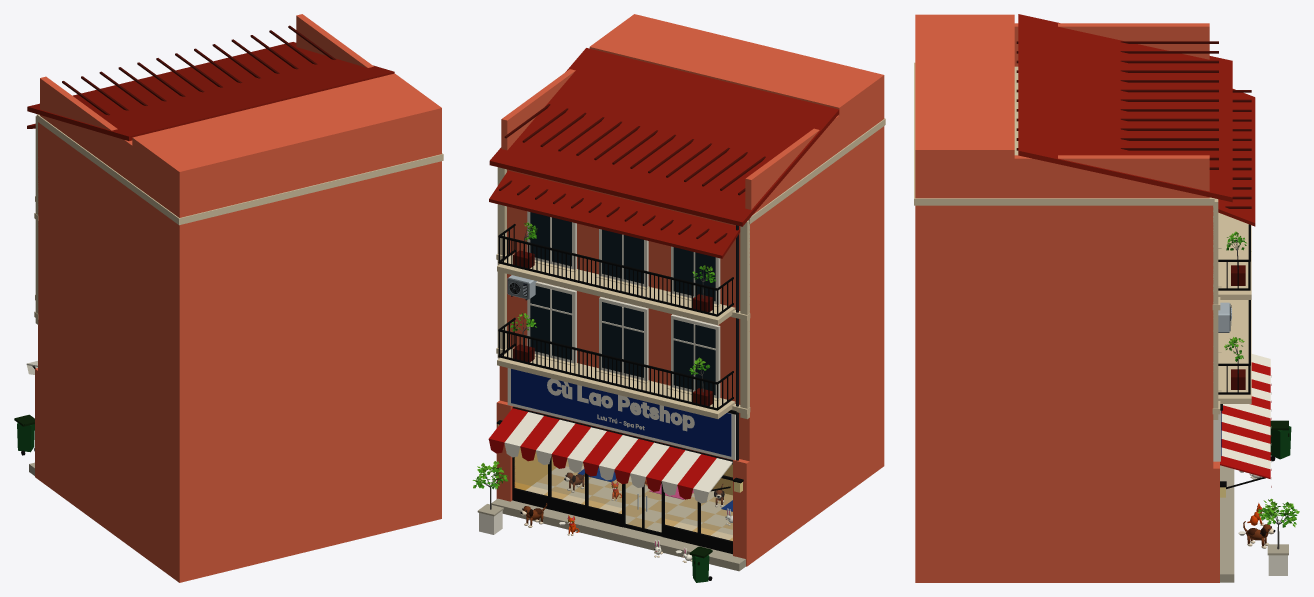
Rendered from PV_StreetShop02_Petshop.fbx.
3 renders of one model, left to right at view 1: azimuth 30°, elevation 25°; view 2: azimuth 150°, elevation 25°; view 3: azimuth 270°, elevation 25°, orthographic. The views are drawn at different scales.
Parts seen in each view (by area): view 1: PV_StreetShop02_Petshop_LOD0; view 2: PV_StreetShop02_Petshop_LOD0; view 3: PV_StreetShop02_Petshop_LOD0.
Part boxes in pixels (box(x1,y1,x2,y2)): PV_StreetShop02_Petshop_LOD0: box(14, 14, 443, 582); PV_StreetShop02_Petshop_LOD0: box(472, 14, 885, 582); PV_StreetShop02_Petshop_LOD0: box(914, 14, 1299, 582).
Size of what is drawn, in the model's own units: 8.46 by 12.5 by 10.09.
Materials: 2 (1 with a texture image).
